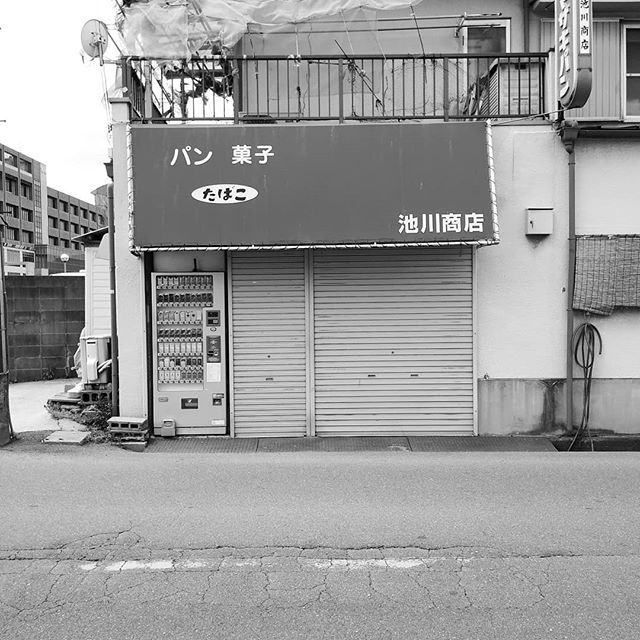building: (121, 1, 640, 433), (1, 148, 109, 277)
sign: (129, 123, 502, 249)
street: (8, 437, 640, 640)
